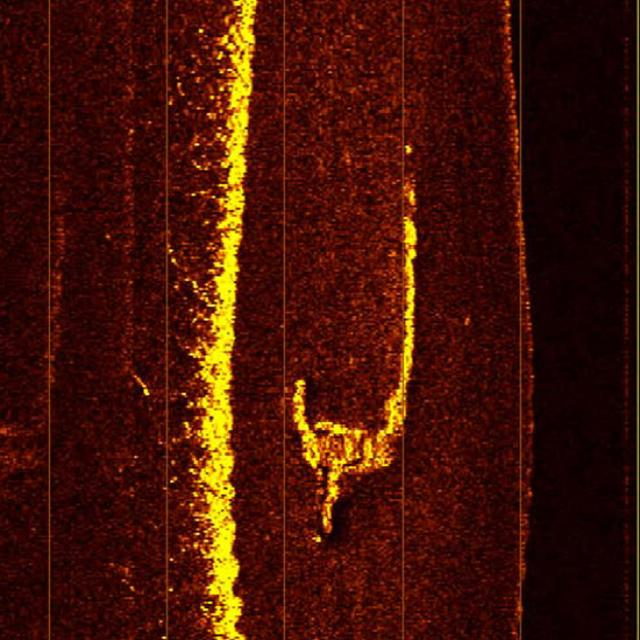ship: (286, 147, 424, 548)
